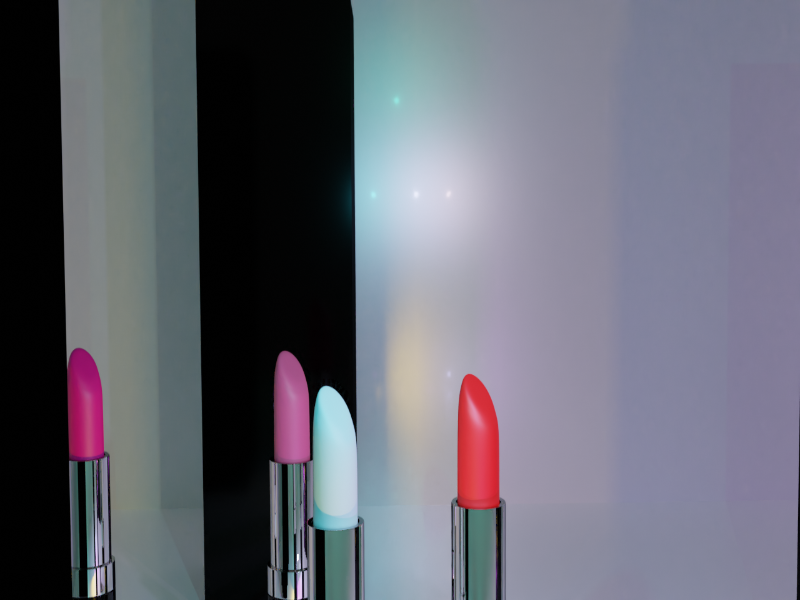lipstick: (62, 345, 116, 600), (265, 347, 312, 596), (308, 381, 359, 591), (454, 372, 502, 595)
